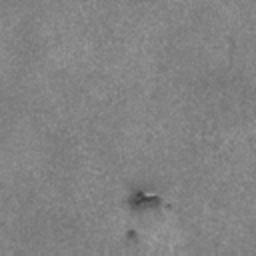Iron sheet ash: (133, 189, 161, 210), (128, 229, 136, 238)
